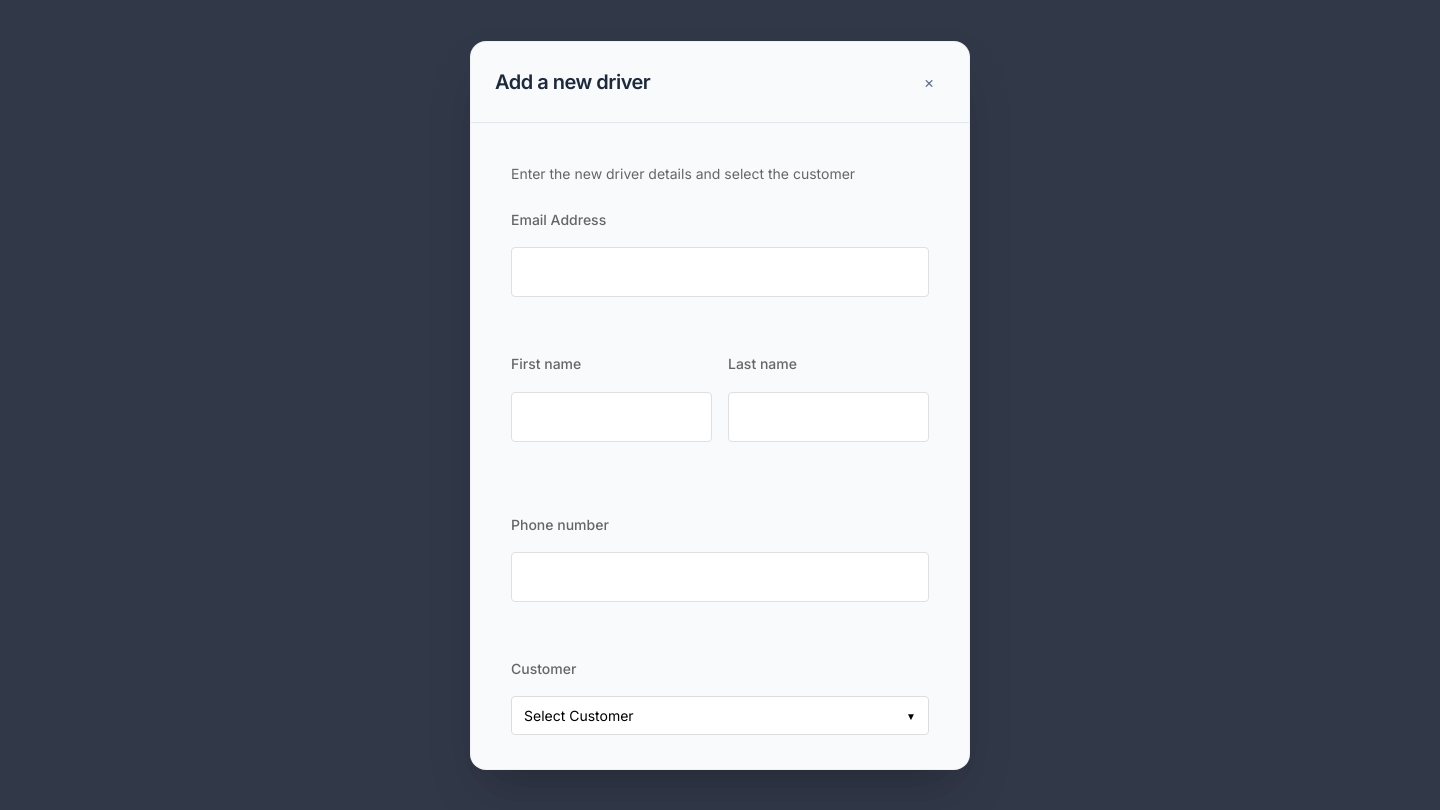
AddDriver Component › dropdowns open and allow selection
// Test customer dropdown
Click the button "Select Customer".
click(579, 716)  # box [511,696,929,736]
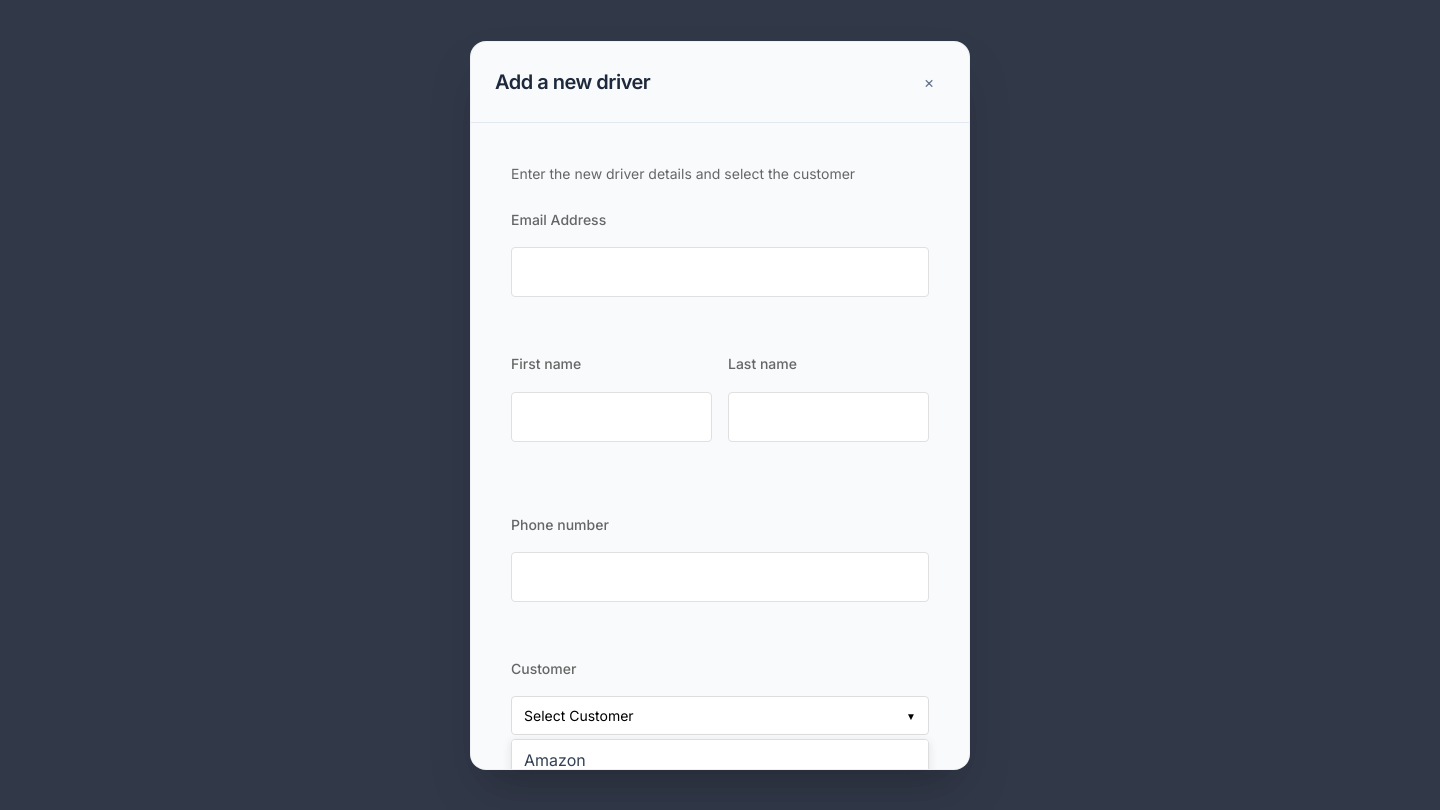
Expected: the text "Amazon" is shown
Click the text "Amazon".
click(555, 760)  # box [524,750,586,770]
(page scrolled)
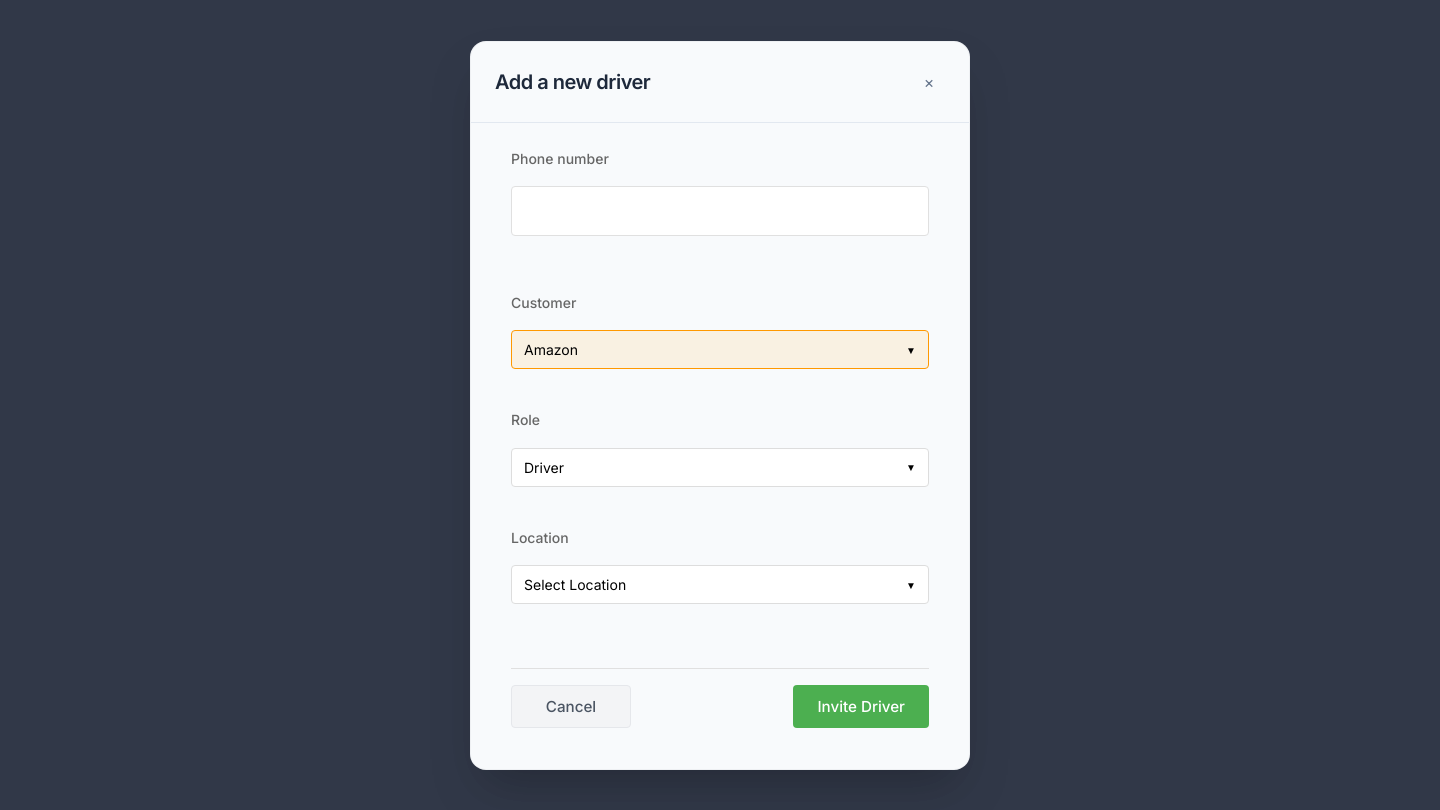
Expected: the button "Amazon" is shown, [511,330,929,370]
// Test location dropdown
Click the button "Select Location".
click(575, 585)  # box [511,565,929,604]
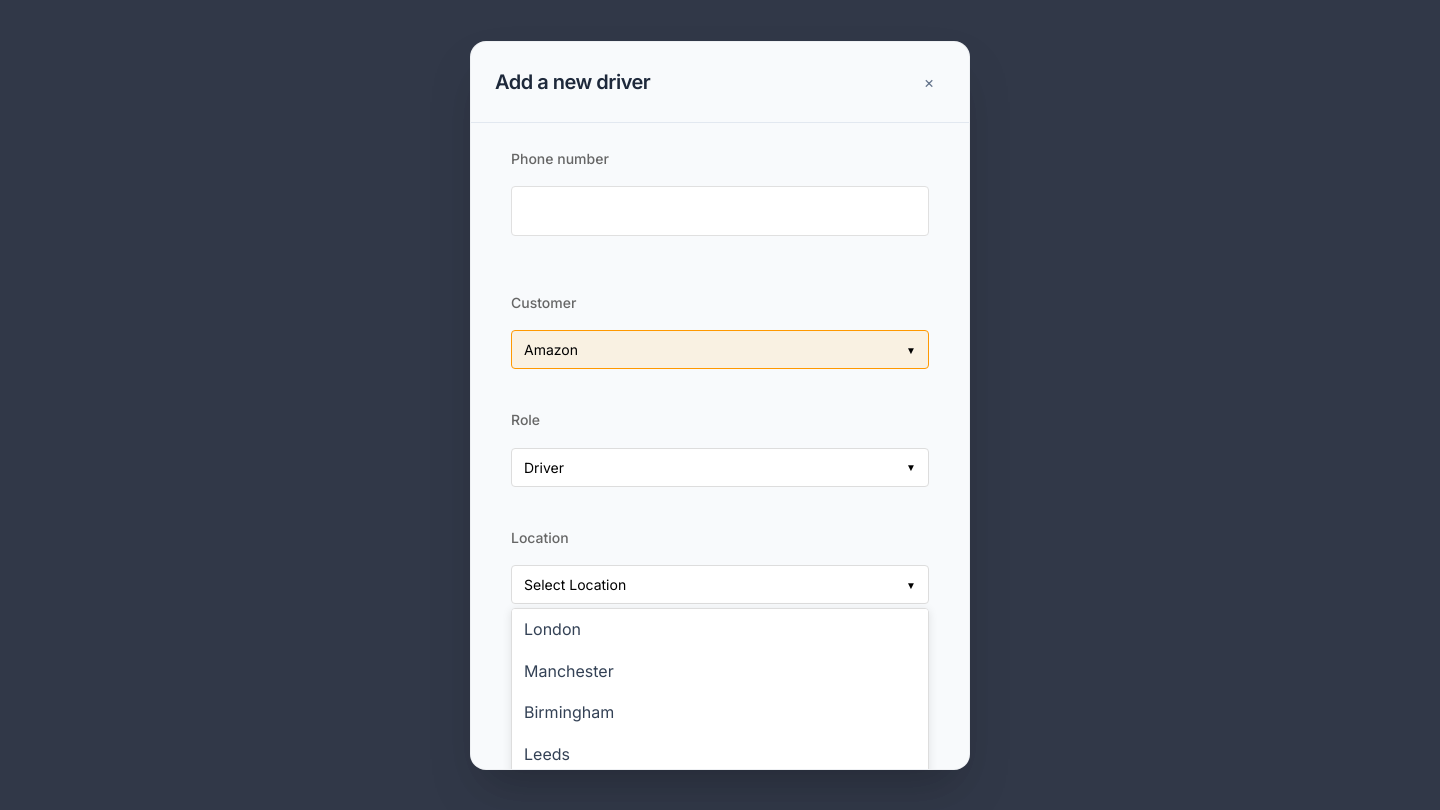
Expected: the text "London" is shown
Click the text "London".
click(552, 629)  # box [524,619,581,639]
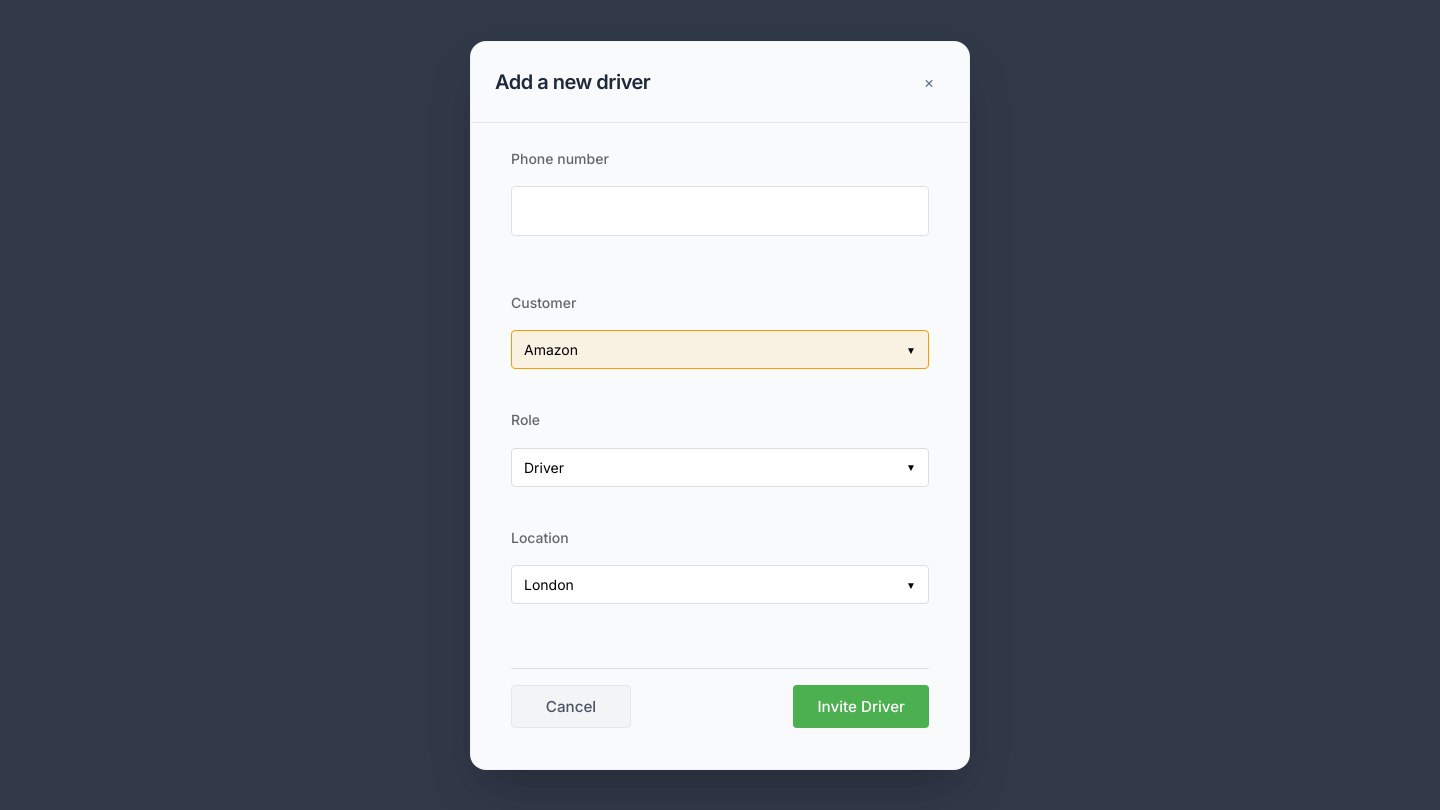
Expected: the button "London" is shown, [511,565,929,604]
// Test role dropdown (already has a default value)
Click the button "Driver".
click(544, 467)  # box [511,448,929,487]
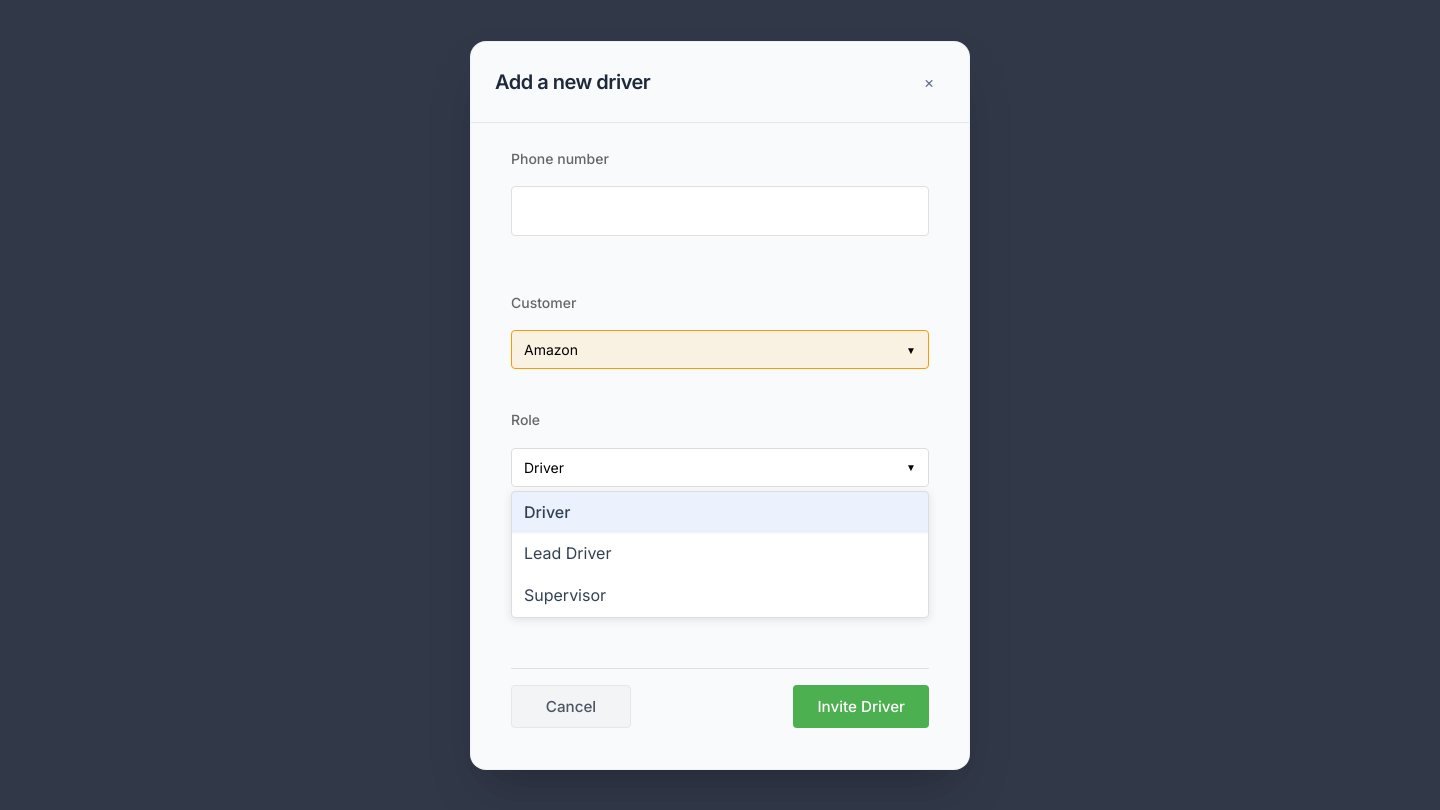
Expected: the text "Lead Driver" is shown
Click the text "Lead Driver".
click(568, 553)  # box [524,543,612,563]
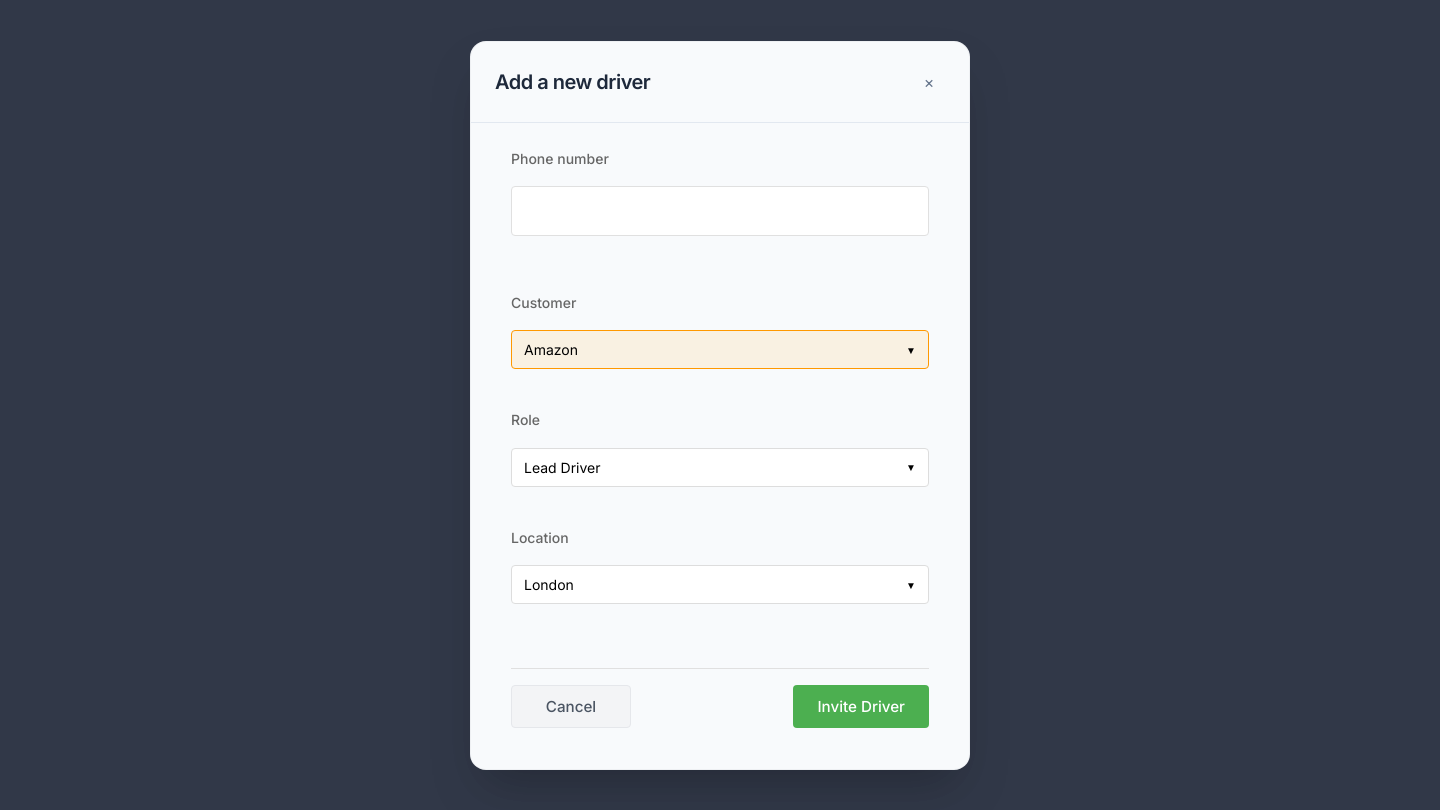
Expected: the button "Lead Driver" is shown, [511,448,929,487]
